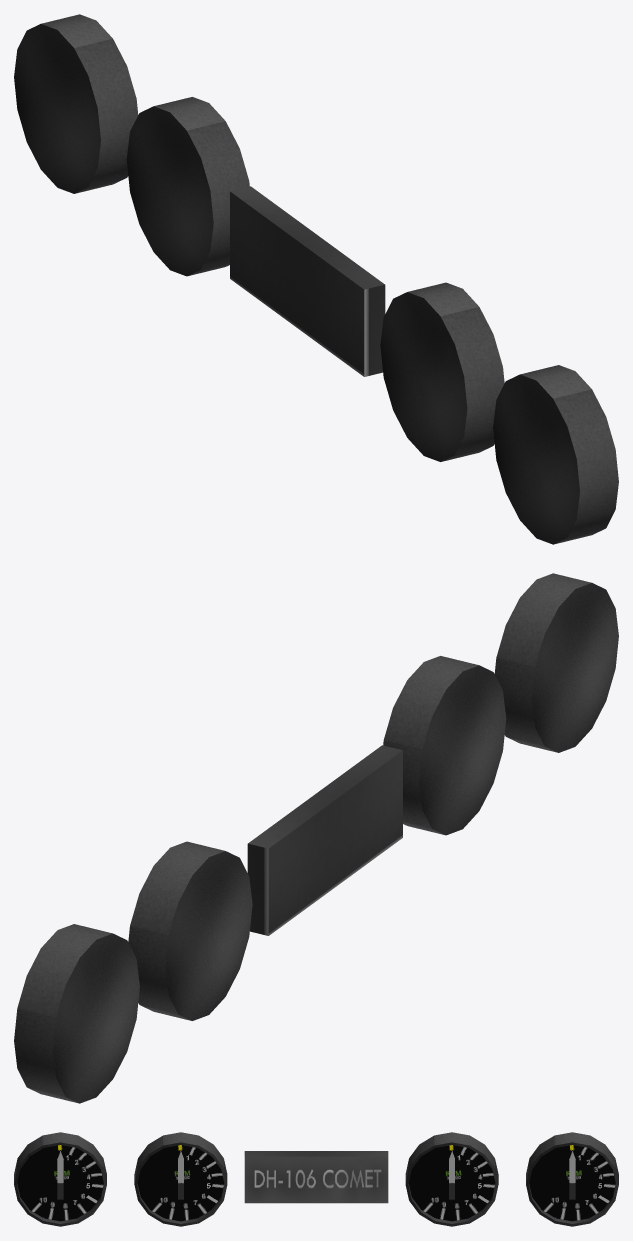
The model's file is Enginee.obj.
The picture shows the model from 3 angles, top to bottom: view 1: azimuth 30°, elevation 25°; view 2: azimuth 150°, elevation 25°; view 3: azimuth 270°, elevation 25°; orthographic projection. The views are drawn at different scales.
Parts seen in each view (by area): view 1: RPM-1_CURSOR-1, RPM-2_CURSOR-1.001, RPM-4_CURSOR-1.003, Nametag_Cube.003, RPM-3_CURSOR-1.002; view 2: RPM-4_CURSOR-1.003, RPM-3_CURSOR-1.002, RPM-1_CURSOR-1, Nametag_Cube.003, RPM-2_CURSOR-1.001; view 3: Nametag_Cube.003, RPM-4_CURSOR-1.003, RPM-1_CURSOR-1, RPM-3_CURSOR-1.002, RPM-2_CURSOR-1.001, Cursor-4_RPM-1.003, Cursor-1_RPM-1, Cursor-3_RPM-1.002, Cursor-2_RPM-1.001.
Part boxes in pixels (box(x1,y1,x2,y2)): RPM-1_CURSOR-1: box(493, 365, 618, 544); RPM-2_CURSOR-1.001: box(380, 282, 504, 461); RPM-4_CURSOR-1.003: box(14, 14, 138, 193); Nametag_Cube.003: box(230, 186, 385, 376); RPM-3_CURSOR-1.002: box(126, 97, 249, 276); RPM-4_CURSOR-1.003: box(14, 924, 139, 1103); RPM-3_CURSOR-1.002: box(128, 841, 252, 1020); RPM-1_CURSOR-1: box(494, 573, 618, 752); Nametag_Cube.003: box(247, 745, 402, 935); RPM-2_CURSOR-1.001: box(383, 656, 506, 835); Nametag_Cube.003: box(244, 1151, 388, 1203); RPM-4_CURSOR-1.003: box(526, 1132, 618, 1226); RPM-1_CURSOR-1: box(14, 1132, 106, 1226); RPM-3_CURSOR-1.002: box(405, 1132, 498, 1226); RPM-2_CURSOR-1.001: box(134, 1132, 227, 1226); Cursor-4_RPM-1.003: box(569, 1151, 575, 1199); Cursor-1_RPM-1: box(57, 1151, 63, 1199); Cursor-3_RPM-1.002: box(449, 1151, 454, 1199); Cursor-2_RPM-1.001: box(178, 1151, 183, 1199).
Bounding box in the file's own units: 0.0154 × 0.0597 × 0.388.
5 materials, 5 textured.
